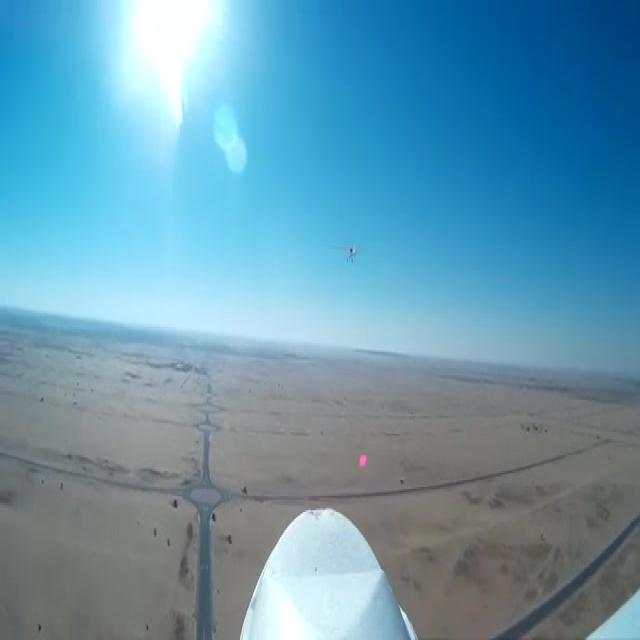iha: (332, 244, 362, 265)
